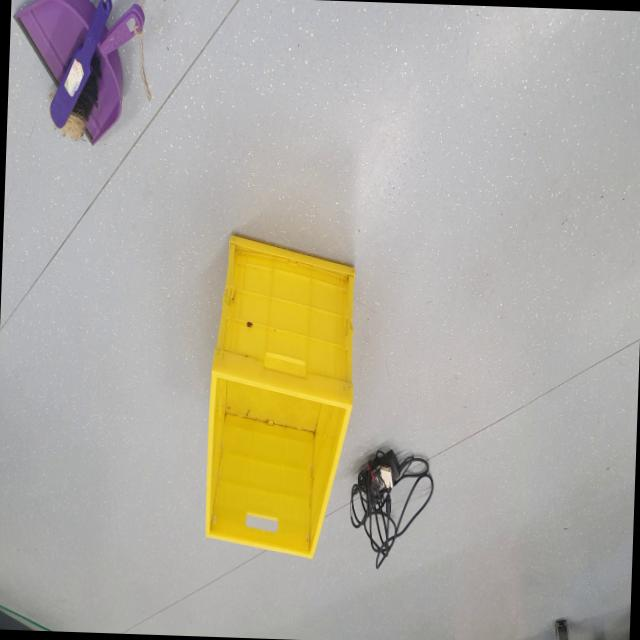box: (180, 212, 370, 567)
